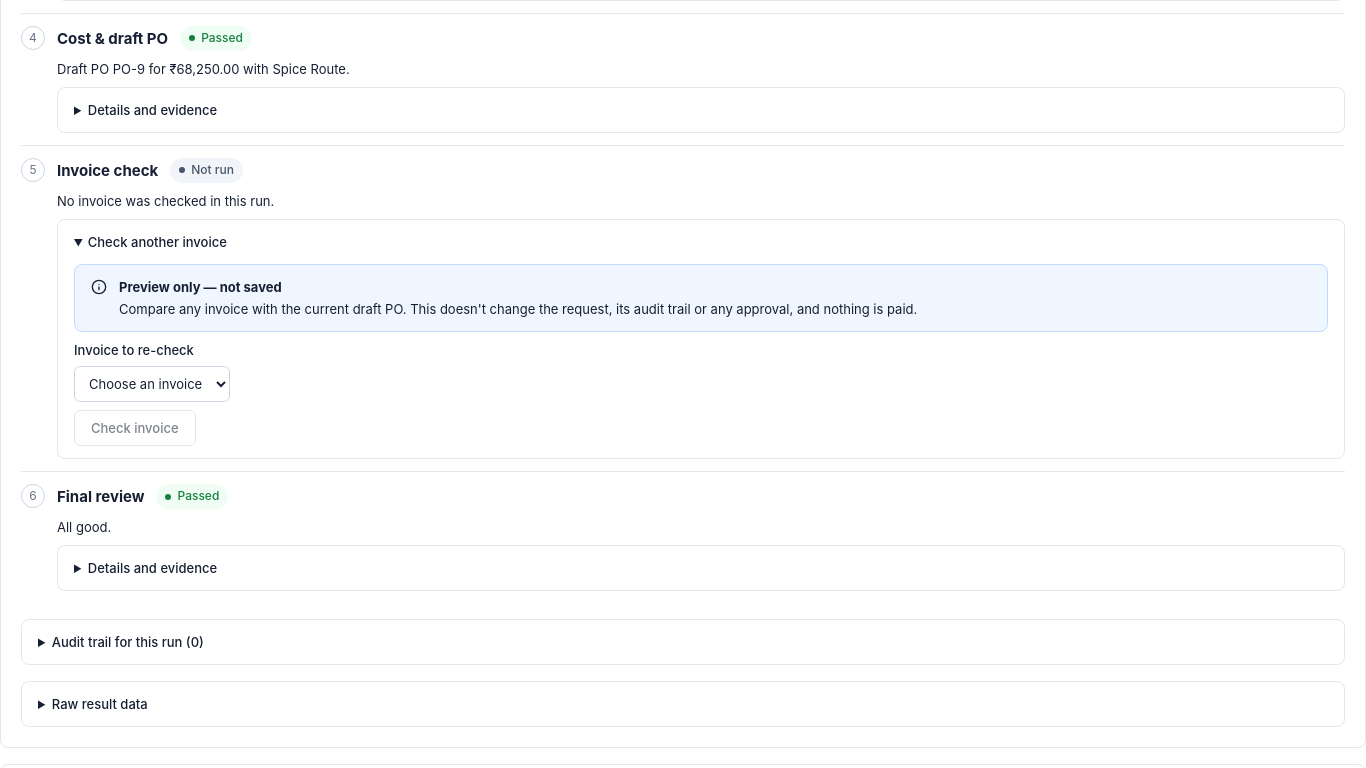
Test: AdminRequestDetailPage — ad-hoc invoice re-check › shows duplicate results and server errors
(page scrolled)
Select "INV-5001 · V-1" in the dropdown labelled "Invoice to re-check": (152, 384) [74,366,230,402]
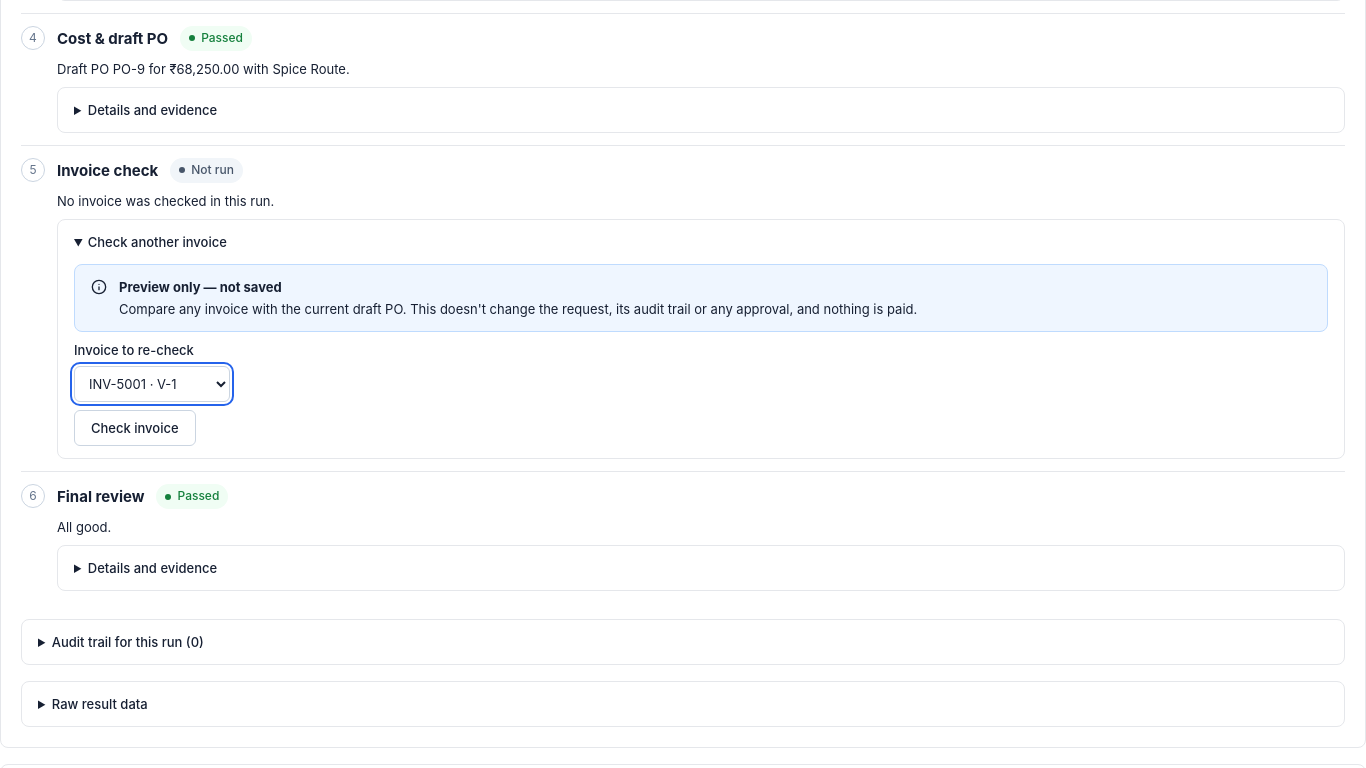
Click the button "Check invoice": (135, 428) [74,410,196,446]
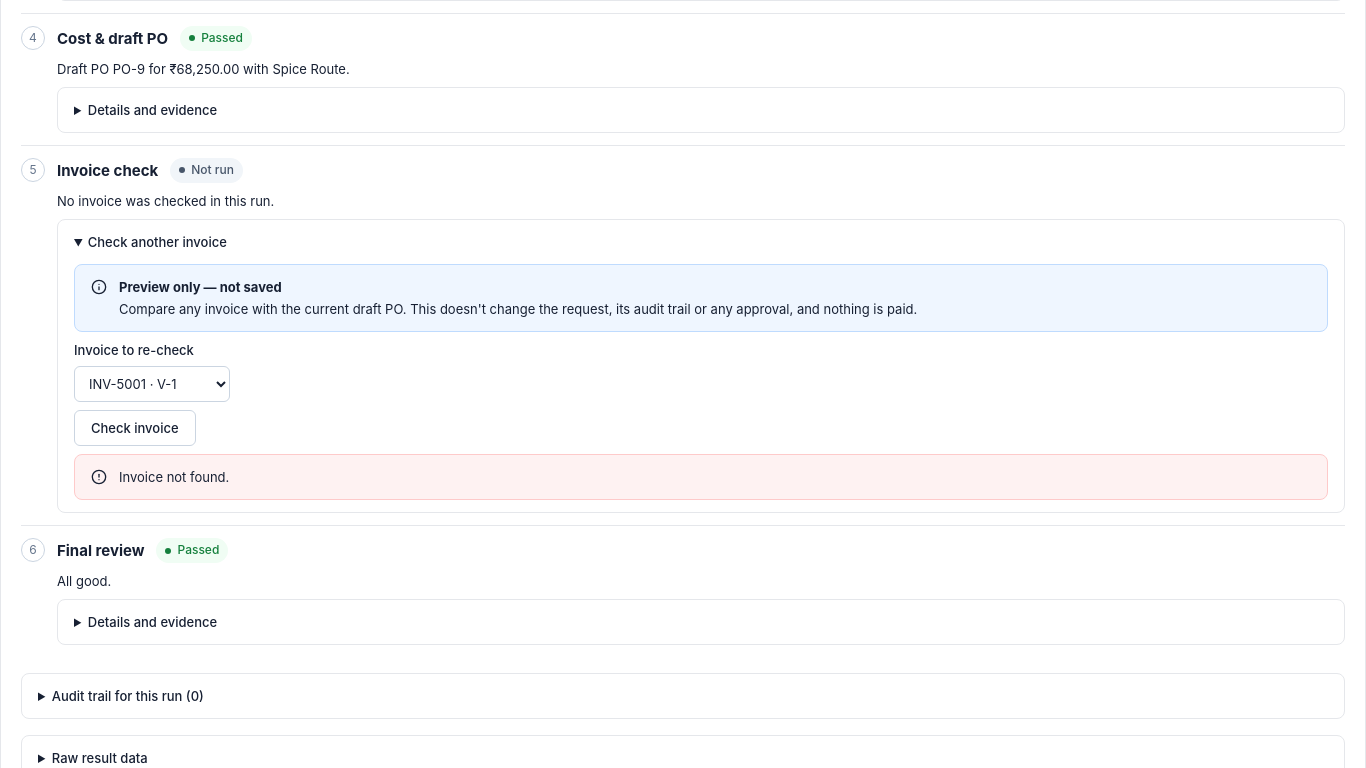
Click the button "Check invoice": (135, 428) [74,410,196,446]
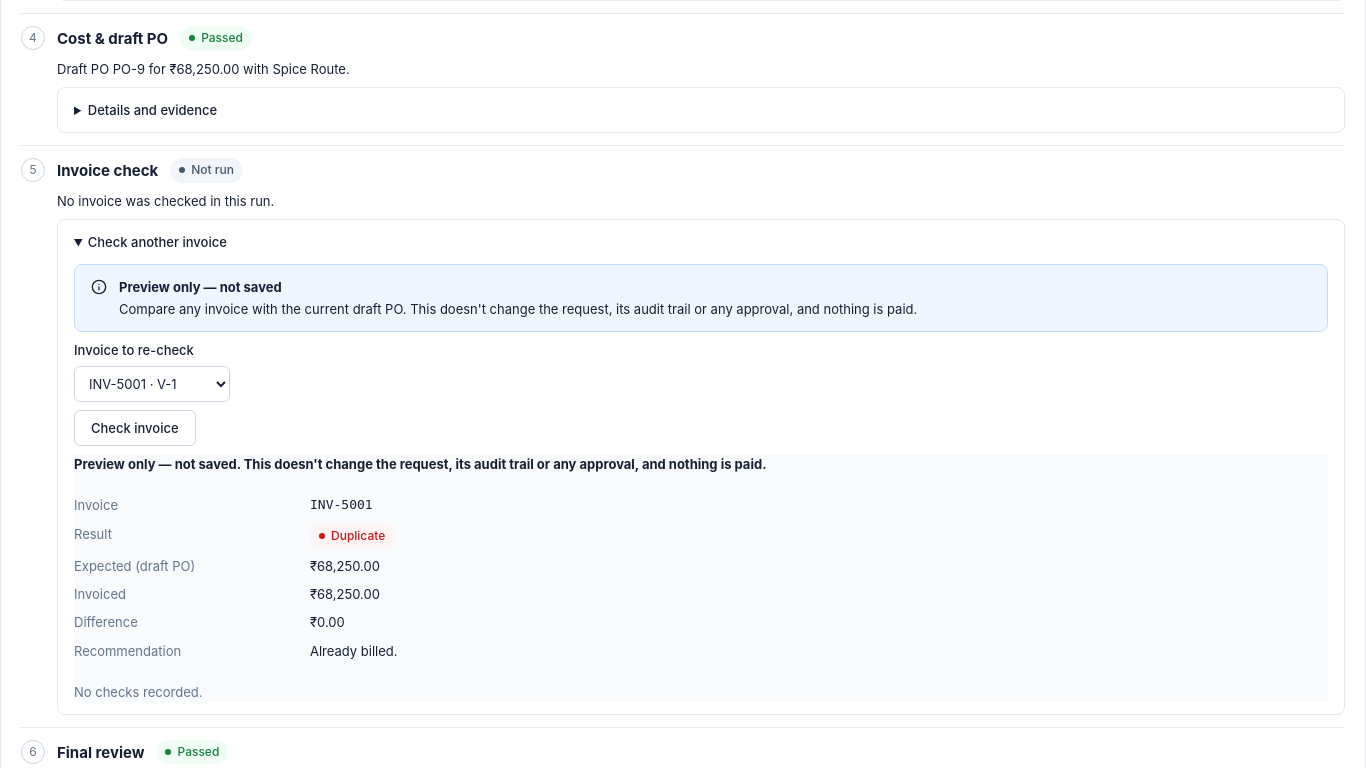
Now the text "Duplicate" is shown, box [310,524,394,548]
